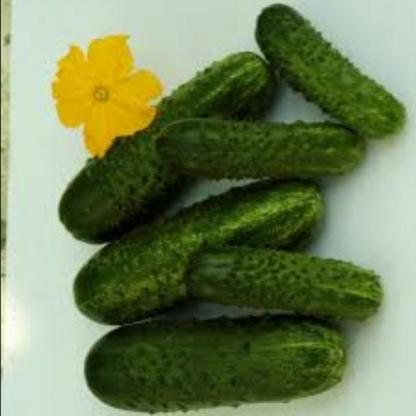cucumber: (43, 37, 279, 254), (68, 168, 332, 334), (72, 298, 373, 416), (254, 0, 416, 141), (148, 112, 372, 185), (182, 246, 394, 323)
